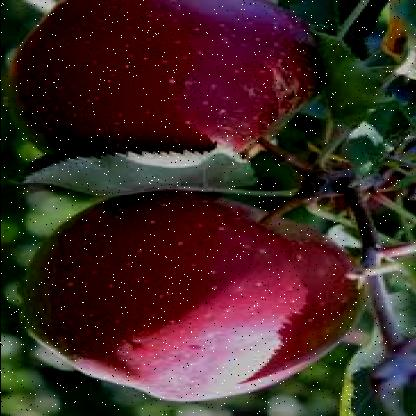apple: (16, 195, 352, 409), (19, 4, 302, 166)
